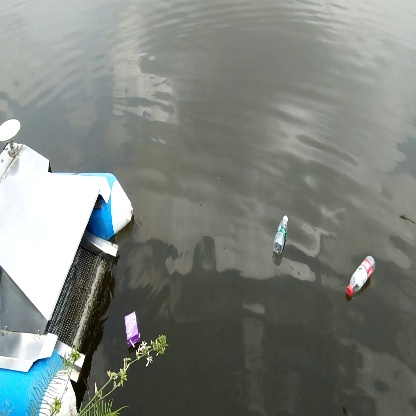bottle: (344, 253, 379, 301), (272, 212, 292, 257)
milk-box: (119, 307, 144, 351)
